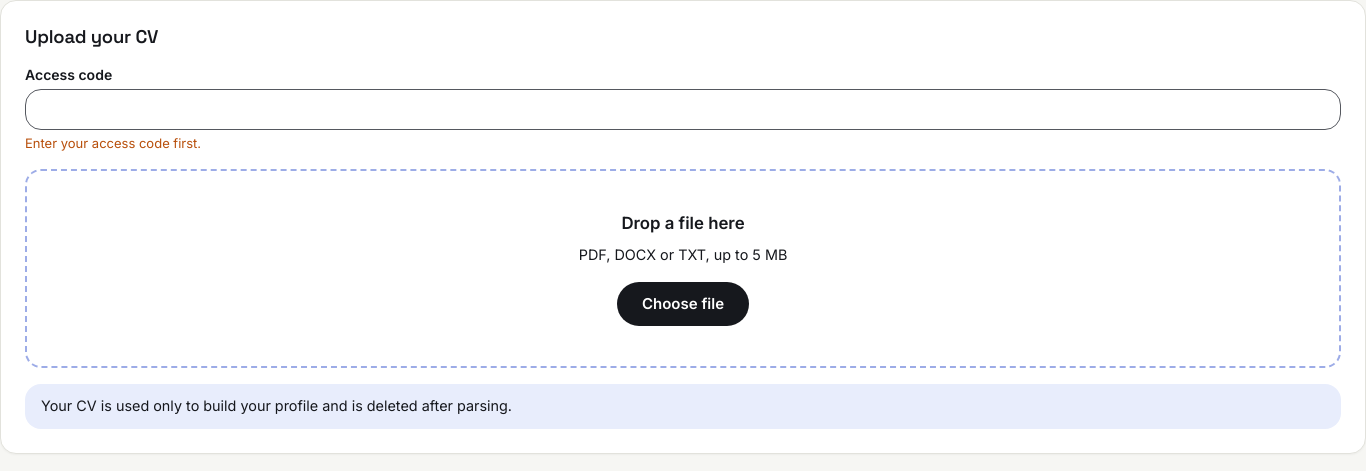
Test case: access code on the upload screen › blocks the upload until a code is entered, then stores it
The width and height of the screenshot is (1366, 471).
Earlier steps of the test are not shown.
Expected: the message reads "Enter your access code first.", left=25, top=134, right=201, bottom=150
Step 1. Type " secret-1 " into the password field labelled "Access code" → (683, 109), box left=25, top=89, right=1341, bottom=130
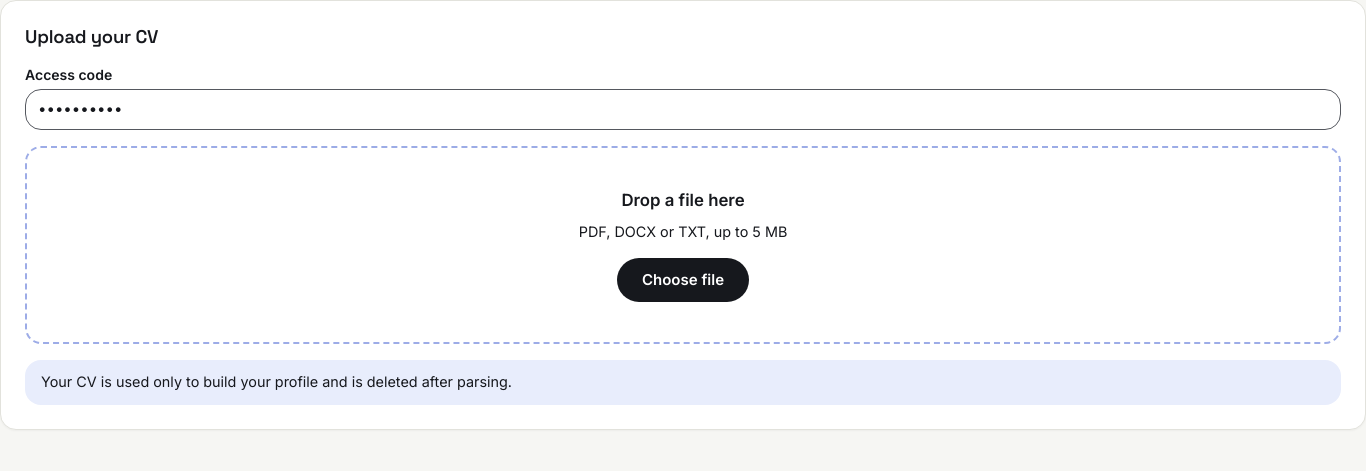
Now the message "Enter your access code first." is gone
